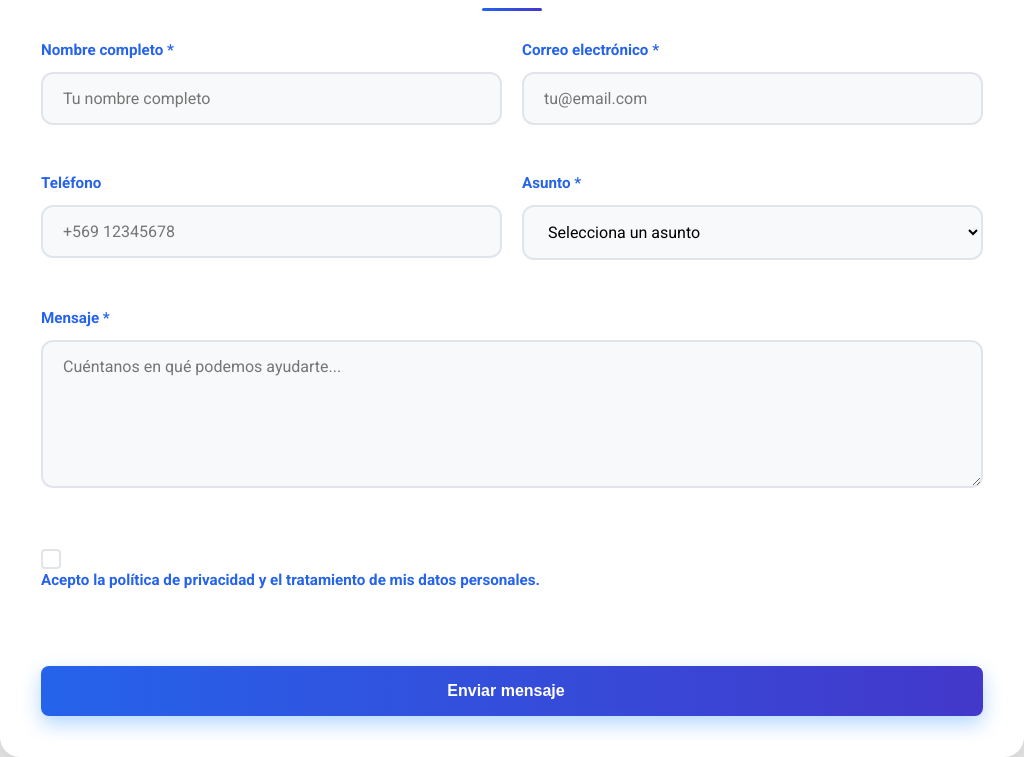
Scenario: <ContactForm /> › debe mostrar errores de validación si se intenta enviar vacío
This screenshot has width=1024, height=757.
(page scrolled)
Click the button "Enviar mensaje".
click(512, 691)  # box [41,666,983,716]
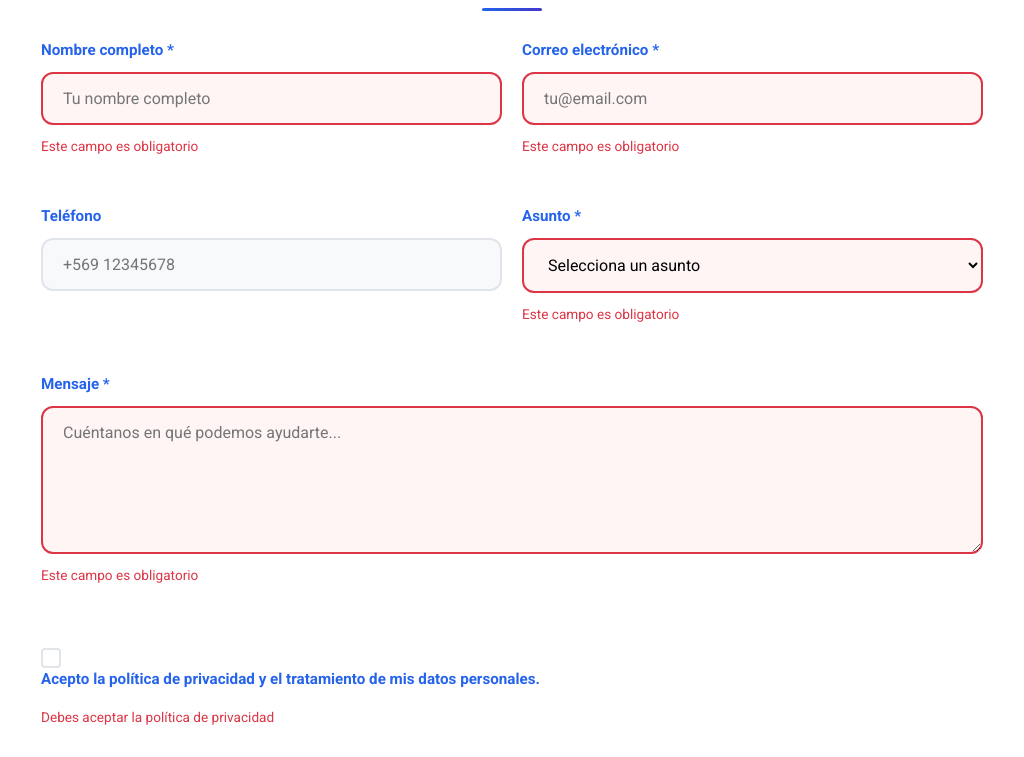
Check: the text "Este campo es obligatorio" below "Nombre completo *" is shown, box [41,138,198,154]
Check: the text "Debes aceptar la política de privacidad" is shown, box [41,709,274,725]
